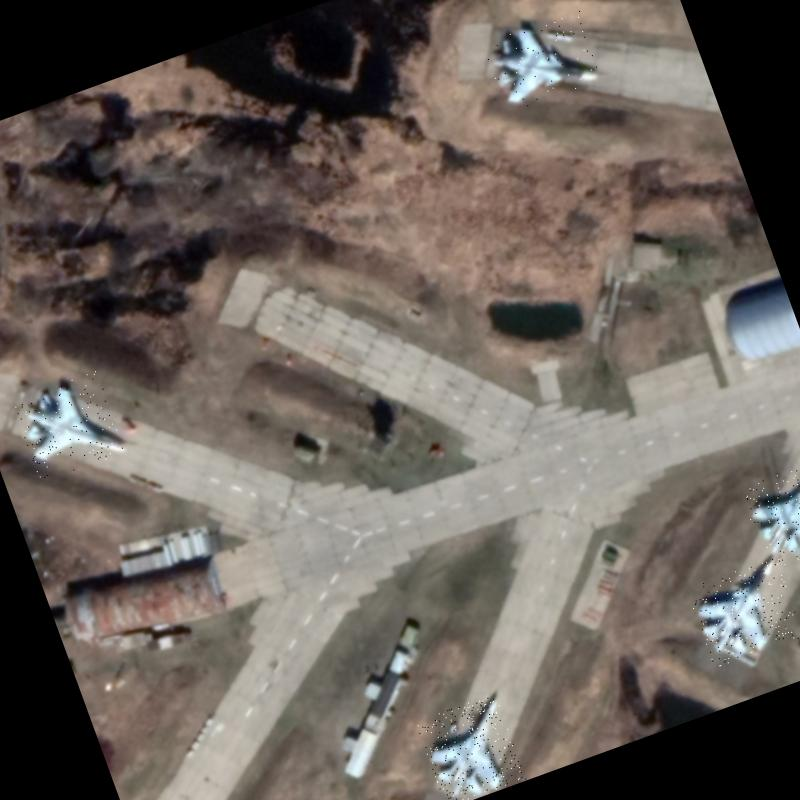A1: (10, 370, 127, 484), (415, 692, 526, 800), (738, 456, 800, 570)
A19: (480, 4, 605, 113), (685, 556, 800, 669)
